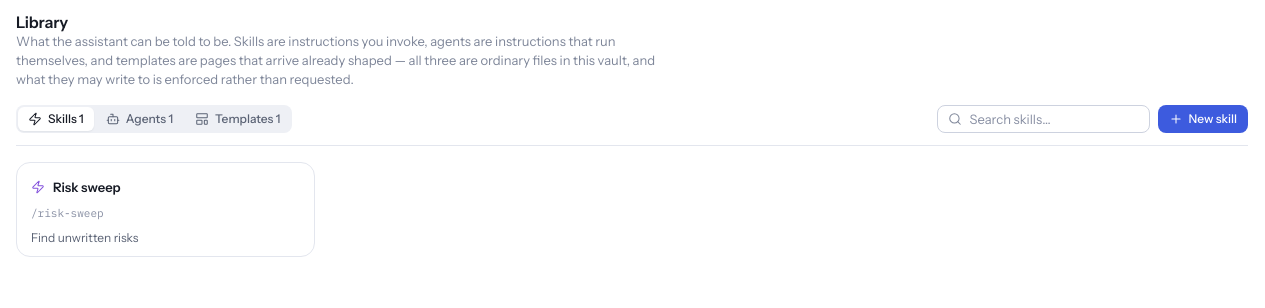
Test: LibraryPage › shelves all three kinds, templates included
Check: the tab with test id "library-tab-skill" is shown, box [18,107,94,131]
Check: the tab with test id "library-tab-agent" is shown, box [96,107,183,131]
What coordinates should you click on to do the following:
click the tab with test id "library-tab-template"
I would click on:
 (238, 119)
Its box is [185,107,290,131].
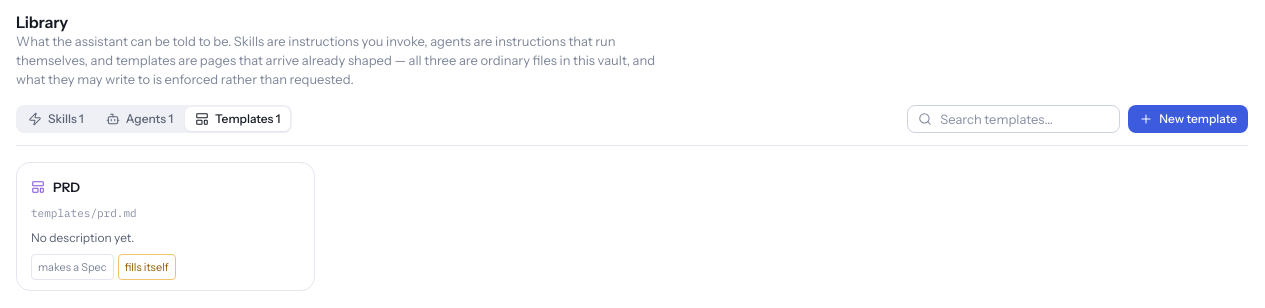
Check: the text "PRD" is shown, box [53,179,80,195]
